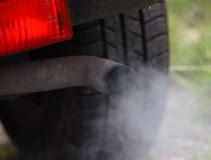smoke: (106, 65, 211, 160)
